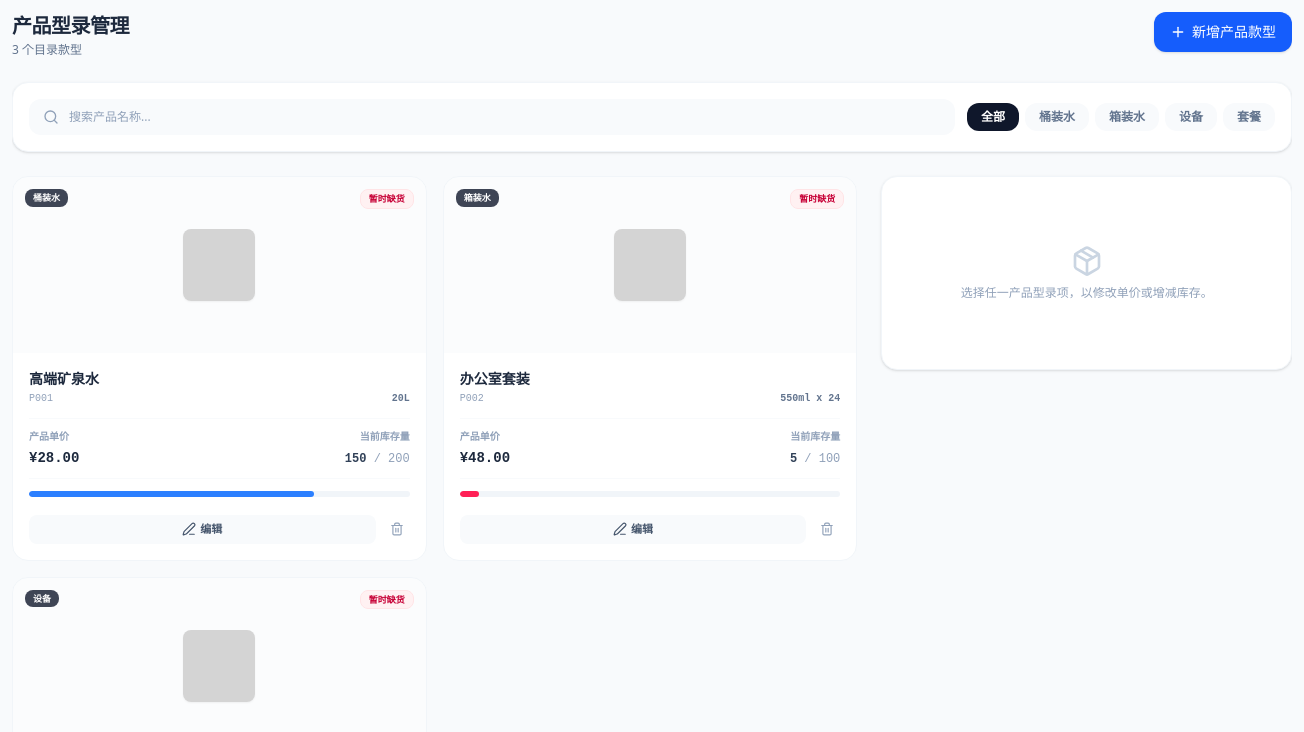
Scenario: ProductsTab Component › filters products by search keyword
Type "矿泉水" into the field with placeholder "搜索产品名称..." at (492, 117), box [29,99,955,135]
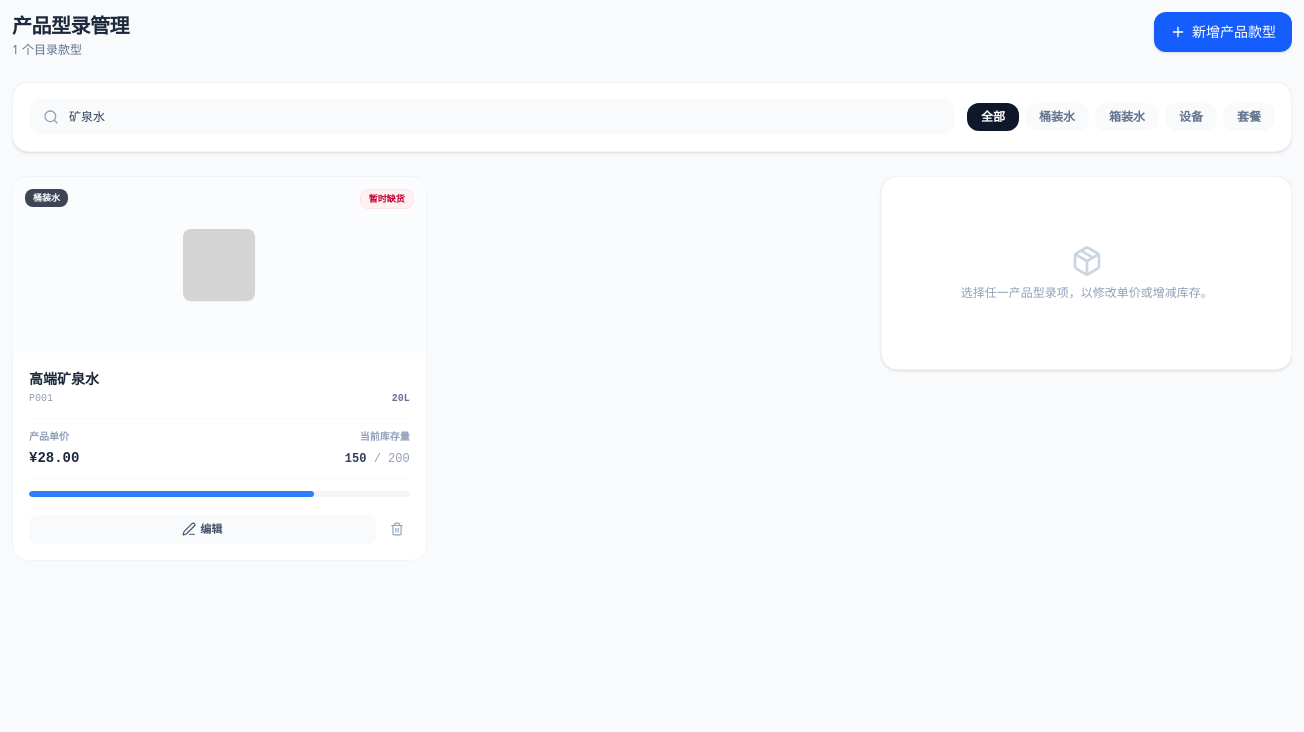
Expected: the heading "高端矿泉水" is shown, [29,369,99,388]
Expected: the heading "办公室套装" is gone
